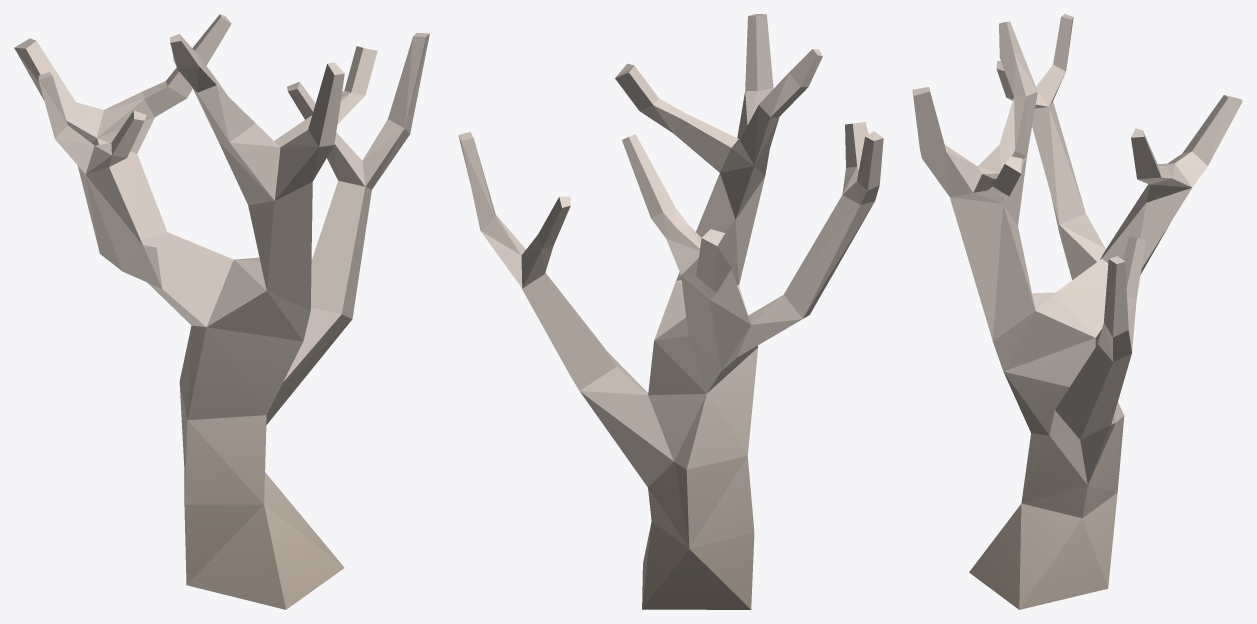
The model's file is BirchBark1.fbx.
3 renders of one model, left to right at view 1: azimuth 30°, elevation 25°; view 2: azimuth 150°, elevation 25°; view 3: azimuth 270°, elevation 25°, orthographic. The views are drawn at different scales.
Parts seen in each view (by area): view 1: BirchBark1; view 2: BirchBark1; view 3: BirchBark1.
Boxes of the visible parts, box(x1,y1,x2,y2) form: BirchBark1: box(14, 14, 429, 609); BirchBark1: box(458, 14, 883, 609); BirchBark1: box(912, 14, 1242, 609).
Bounding box in the file's own units: 273 × 361 × 210.
